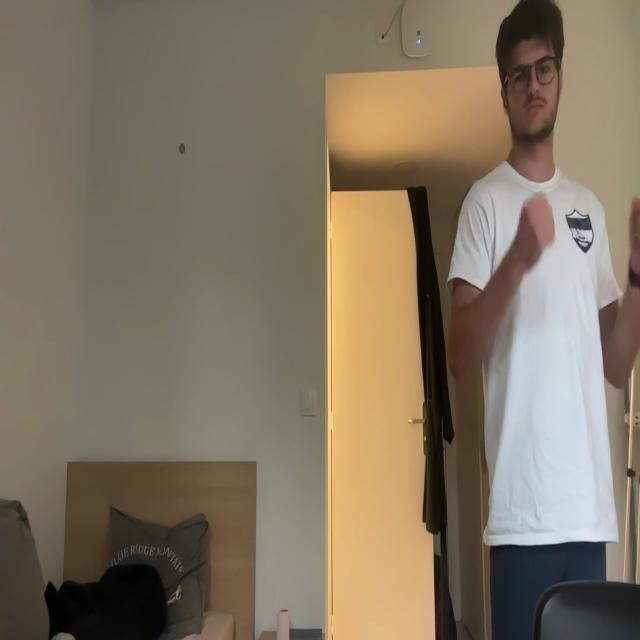elbow: (602, 326, 632, 384), (448, 324, 476, 382)
hand: (512, 188, 558, 261)
shoulder: (456, 181, 496, 251), (595, 198, 606, 252)
